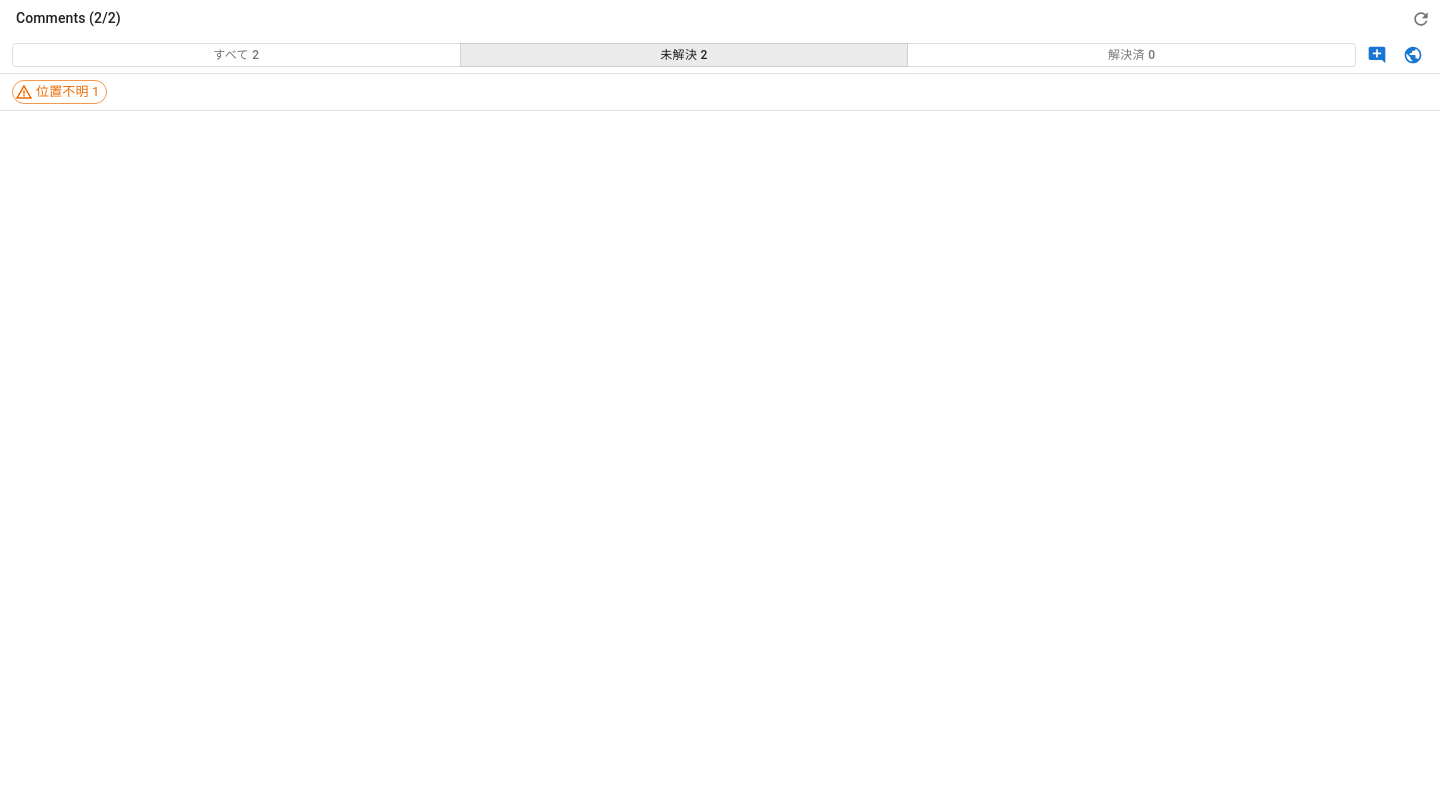
Test: CommentSidePane › global/orphan badges (#316) › counts a caller-unresolvable comment as 位置不明 even though the server says it is anchored
The image size is (1440, 810).
Note: the thread is reachable from the badge, so the comment is readable
Click the button with test id "orphan-comment-badge" at (60, 92), box x1=12 y1=80 x2=107 y2=104
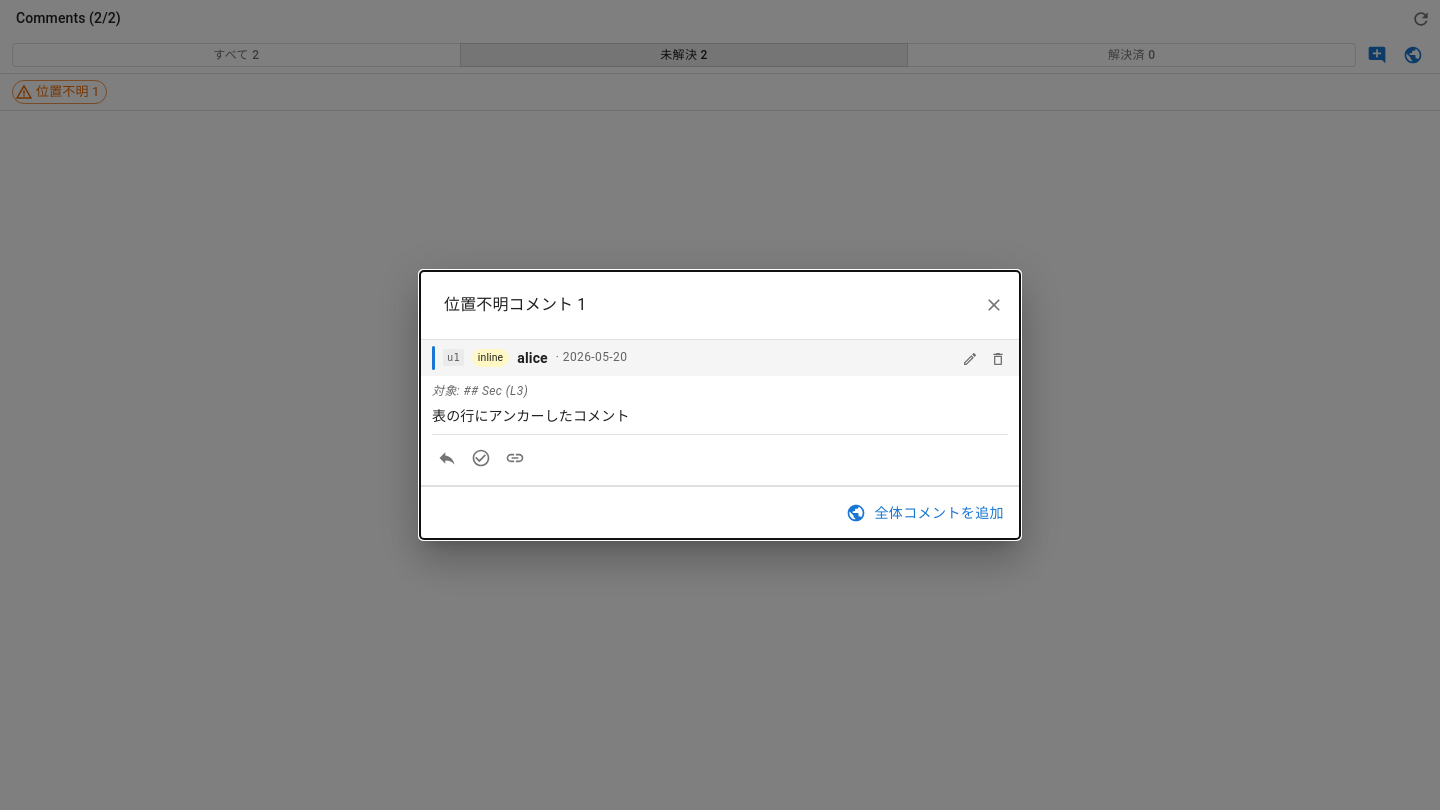
Check: the text "表の行にアンカーしたコメント" is shown, box x1=432 y1=408 x2=630 y2=424
